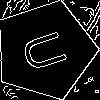U: (20, 25, 79, 75)
